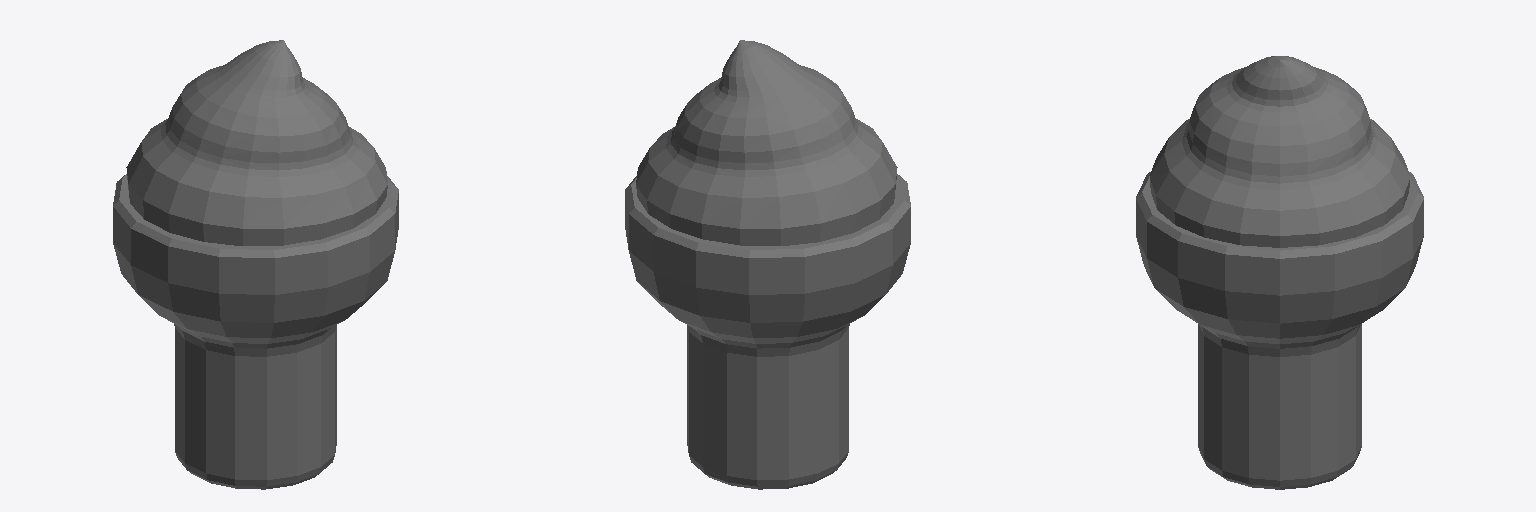
Rendered from ice-cream.obj.
The picture shows the model from 3 angles: view 1: azimuth 30°, elevation 25°; view 2: azimuth 150°, elevation 25°; view 3: azimuth 270°, elevation 25°; orthographic projection.
Visible parts, largest first — view 1: pCylinder2; view 2: pCylinder2; view 3: pCylinder2.
Boxes of the visible parts, <box> form: pCylinder2: <box>113,40,398,489</box>; pCylinder2: <box>625,40,910,489</box>; pCylinder2: <box>1136,56,1423,489</box>.
Bounding box in the file's own units: 3.52 × 5.63 × 3.52.